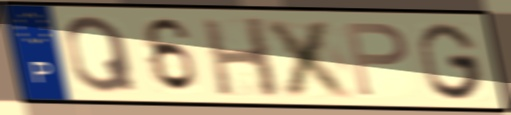6: (143, 16, 200, 96)
G: (416, 20, 488, 102)
H: (198, 15, 284, 100)
P: (341, 20, 411, 100)
Q: (61, 13, 141, 95)
X: (261, 17, 361, 100)
